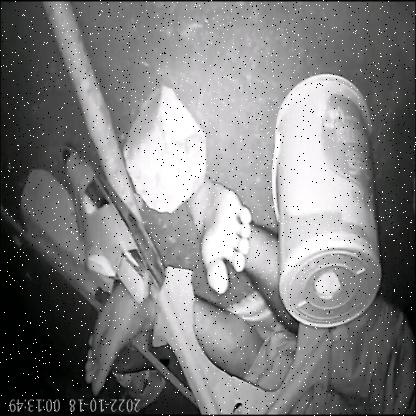leg: (184, 176, 281, 306), (77, 278, 166, 402)
